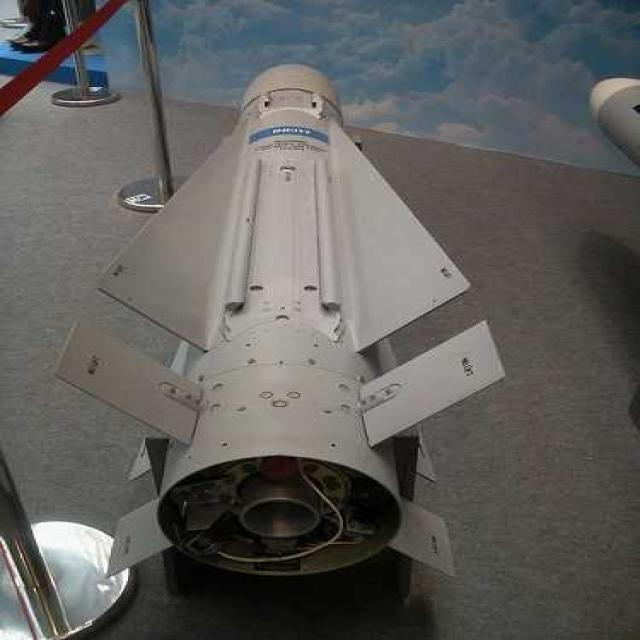missile: (60, 54, 498, 601)
